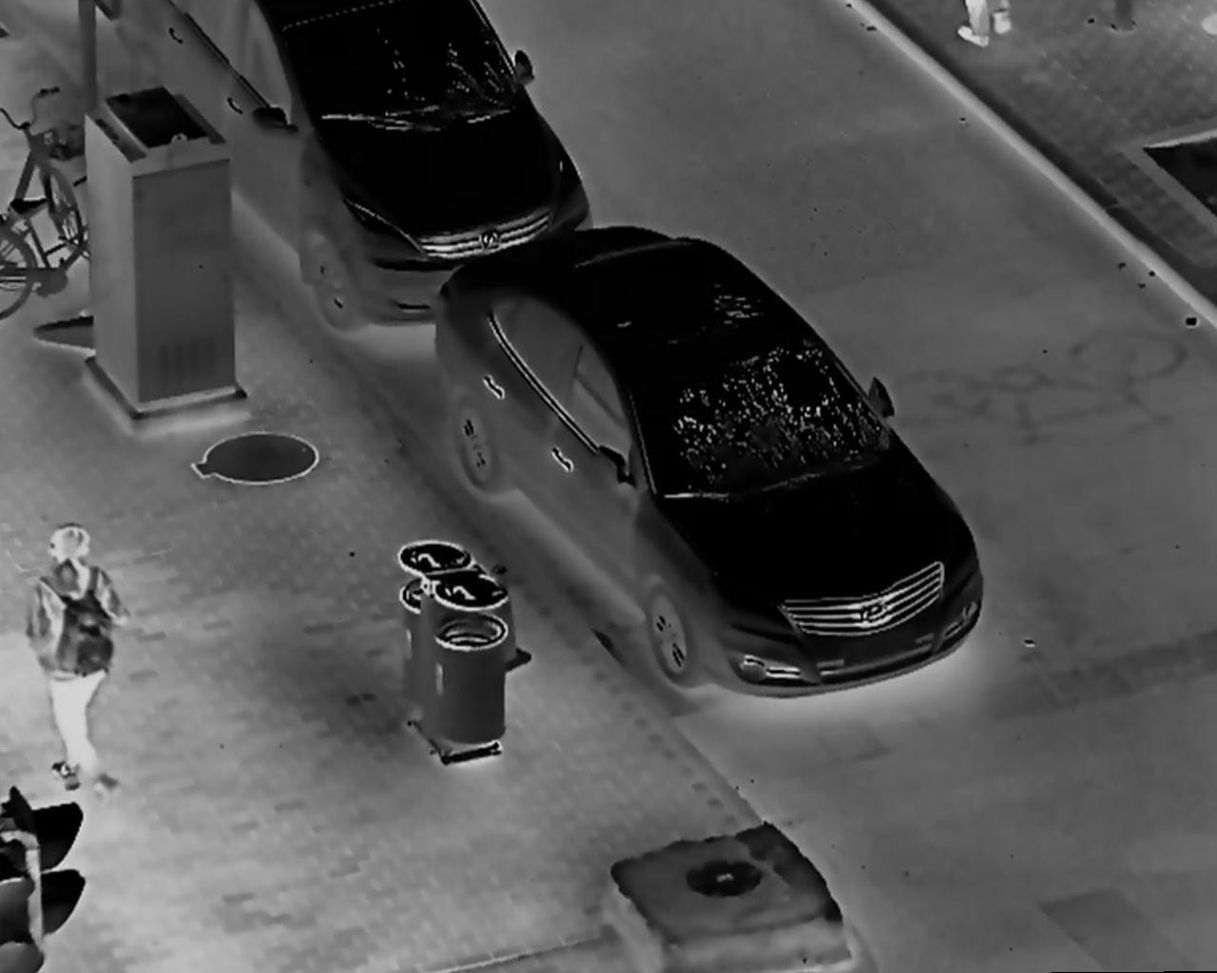person: (19, 515, 130, 806)
